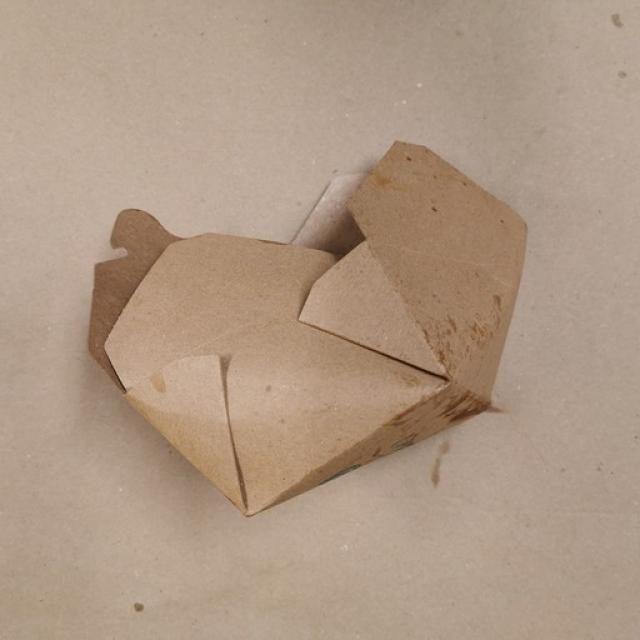PaperCardboard: (94, 137, 526, 518)
